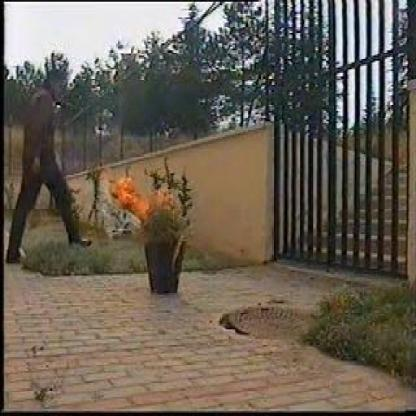foggia-v2-map80-epoch100 - v1 4323: (113, 180, 151, 212)
